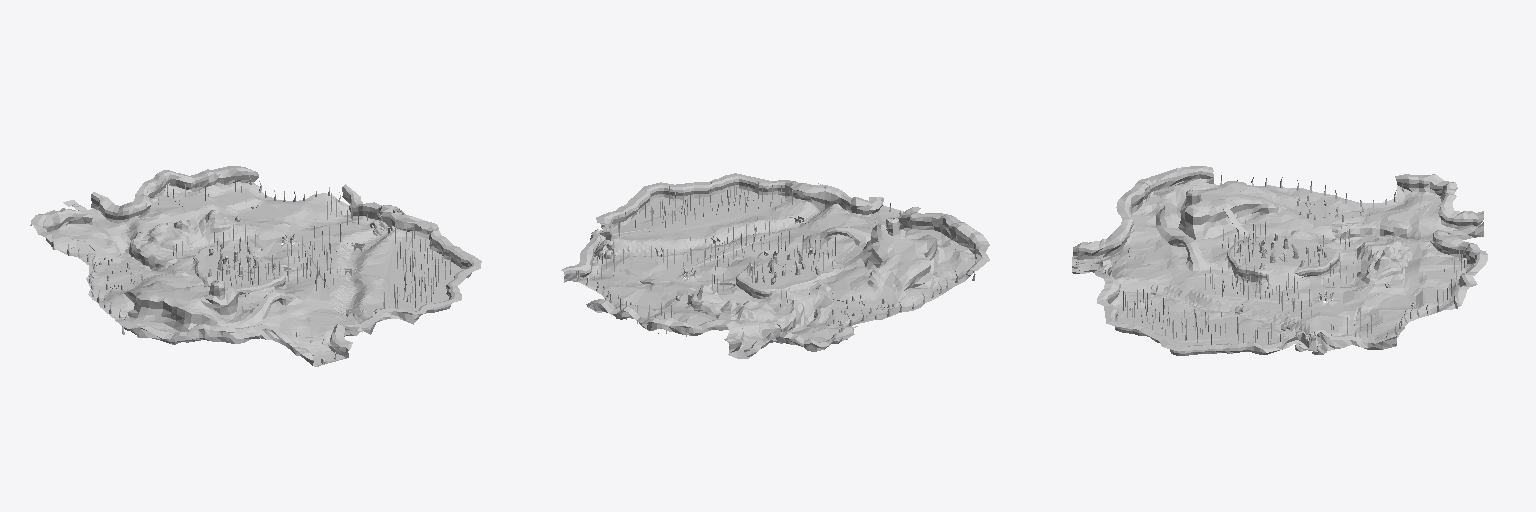
Rendered from simplify_styled.obj.
The picture shows the model from 3 angles: view 1: azimuth 30°, elevation 25°; view 2: azimuth 150°, elevation 25°; view 3: azimuth 270°, elevation 25°; orthographic projection.
Bounding box in the file's own units: 81.54 × 11.48 × 83.6.